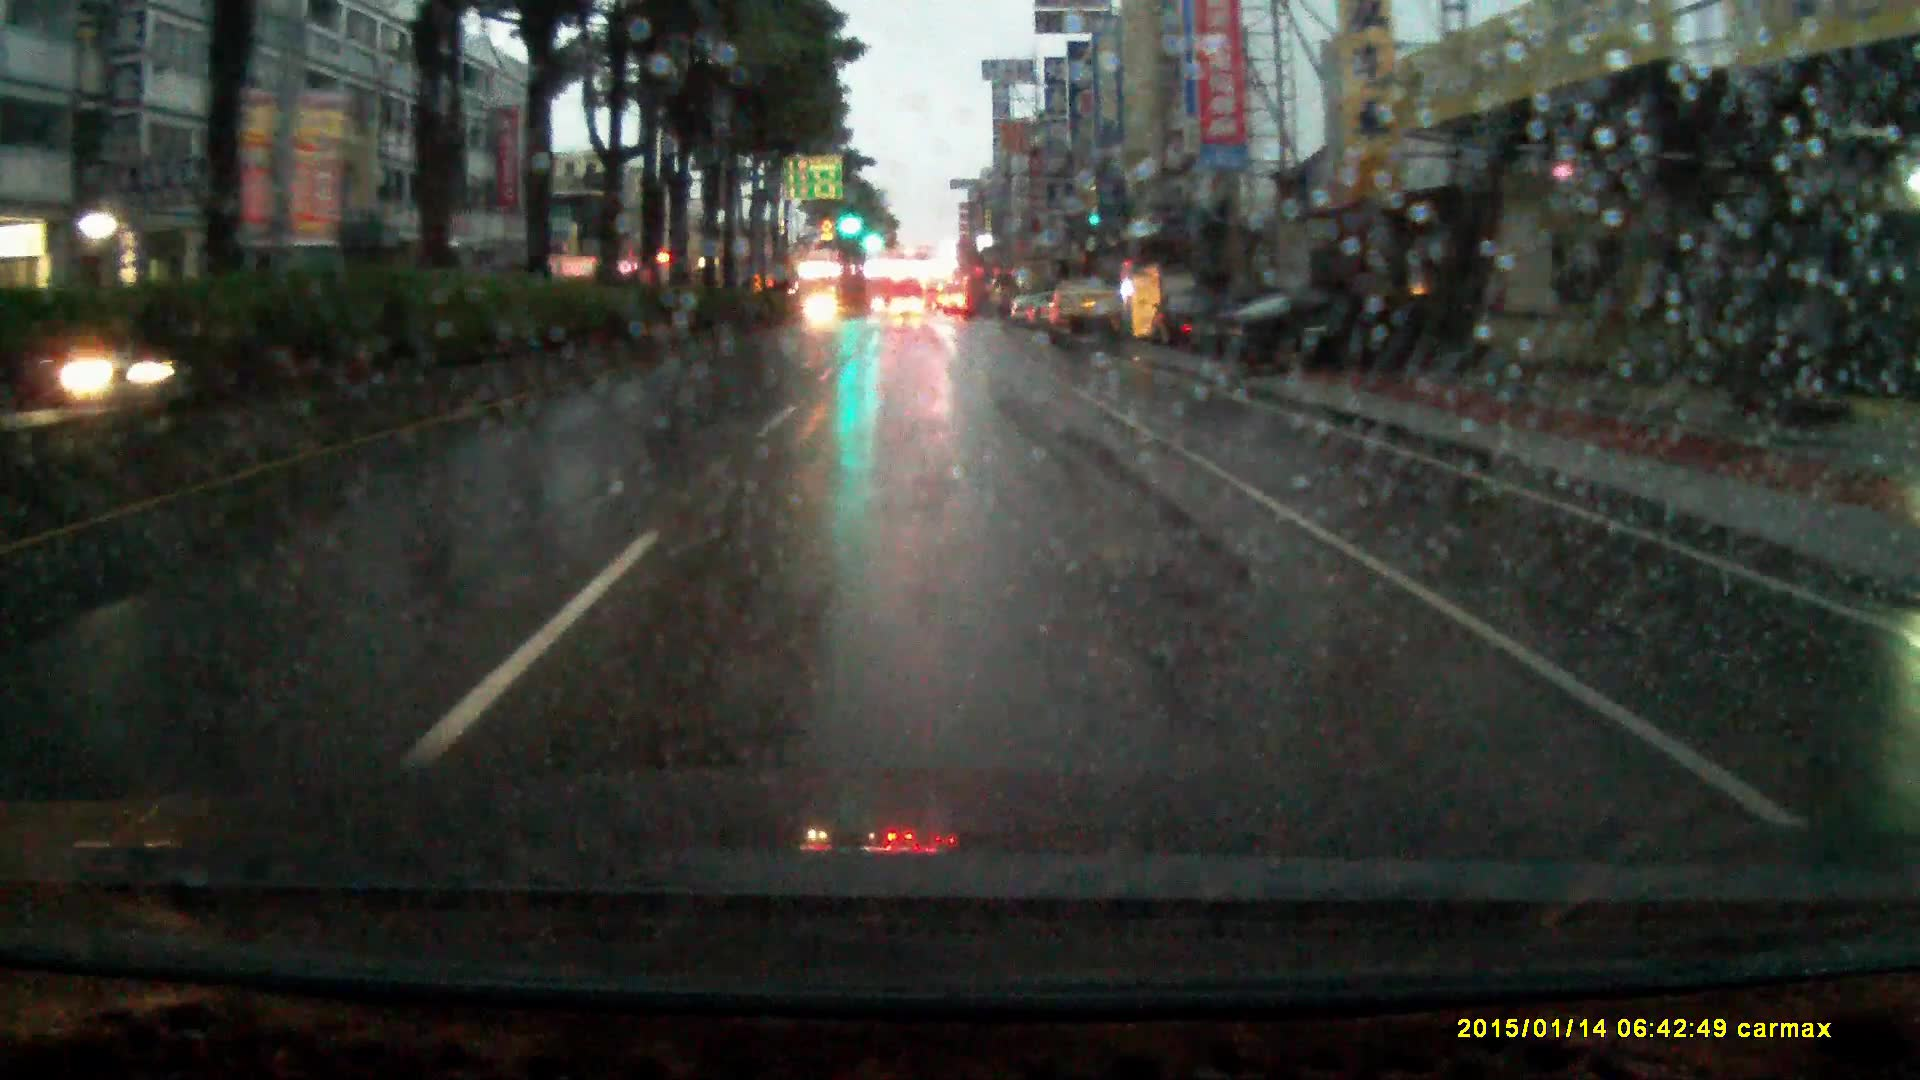vehicle: (1187, 291, 1477, 376), (1150, 294, 1226, 357), (1052, 278, 1120, 349), (803, 298, 843, 334), (889, 301, 927, 324), (923, 281, 945, 316)
